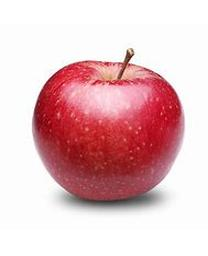apple: (32, 48, 186, 202)
